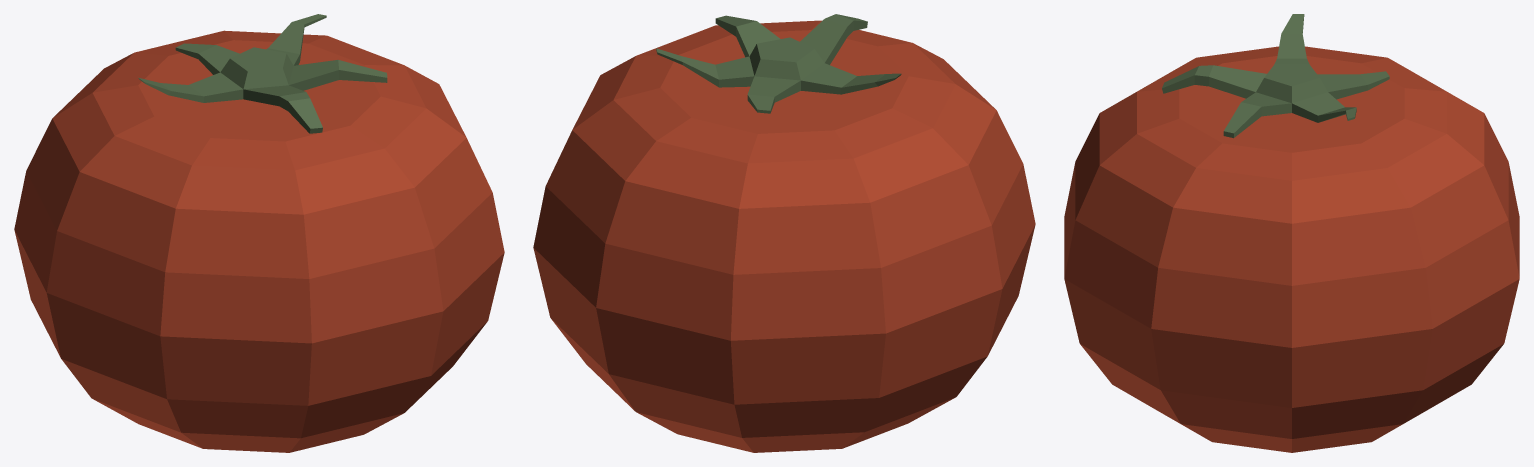
File: tomato.fbx
The picture shows the model from 3 angles, left to right: view 1: azimuth 30°, elevation 25°; view 2: azimuth 150°, elevation 25°; view 3: azimuth 270°, elevation 25°; orthographic projection. The views are drawn at different scales.
Parts seen in each view (by area): view 1: tomato01; view 2: tomato01; view 3: tomato01.
Part boxes in pixels (bbox=[...]): tomato01: bbox=[14, 14, 504, 452]; tomato01: bbox=[533, 14, 1035, 452]; tomato01: bbox=[1064, 14, 1519, 452].
Size of the model in its own units: 12.47 by 10.21 by 12.
